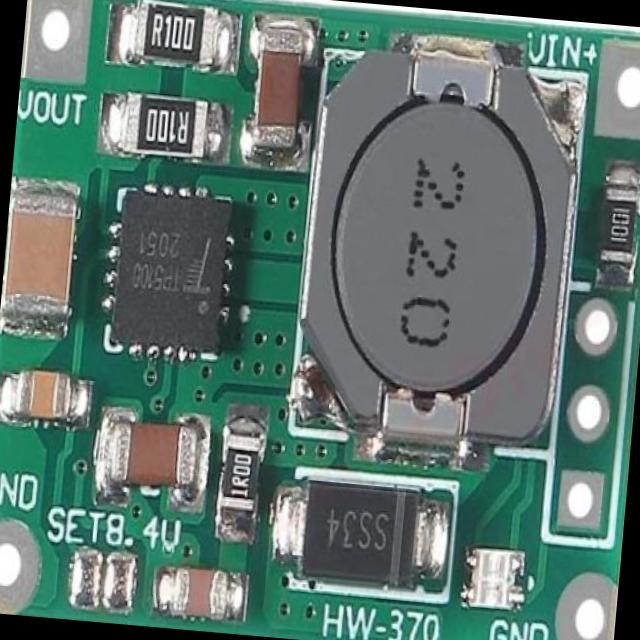IC: (102, 189, 240, 362)
capacitor: (0, 173, 81, 336), (244, 28, 310, 162), (104, 416, 204, 491), (0, 367, 83, 427), (166, 562, 238, 618)
connector: (459, 547, 528, 628)
diode: (282, 478, 442, 591)
resistor: (130, 2, 222, 72), (120, 93, 208, 157), (600, 168, 640, 280), (220, 423, 258, 512)
